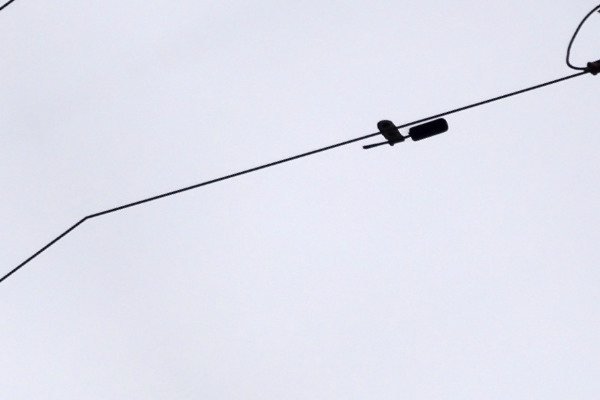damper_defect: (358, 114, 450, 152)
